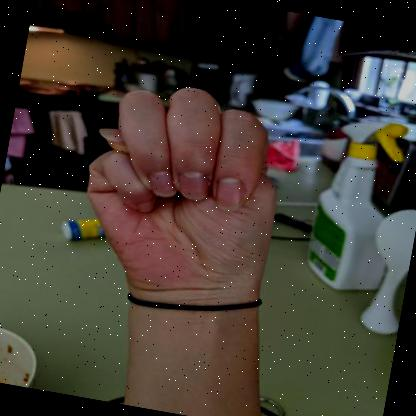M: (86, 87, 276, 303)
